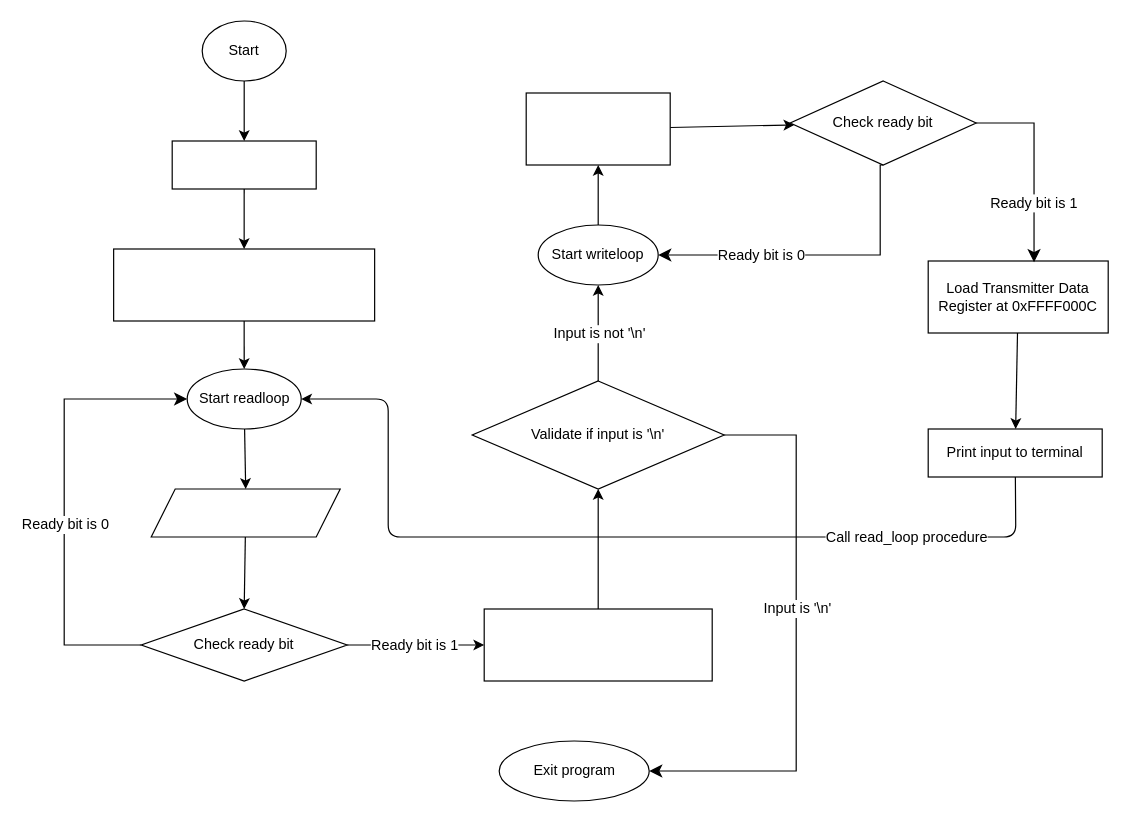
This 1129x822 diagram has some shape labels left out. The box of each missing label's shape, as (x1, y1, x2, y2) in pixels:
Display Message: (171, 140, 316, 189)
Initialise Receiver Control Register Address at 0xFFFF0000: (112, 248, 375, 321)
Listen for user input: (150, 488, 340, 537)
Load input from Receiver Data Register at 0xFFFF0004: (483, 608, 712, 681)
Load Transmitter Control Register at 0xFFFF0008: (525, 92, 670, 165)
